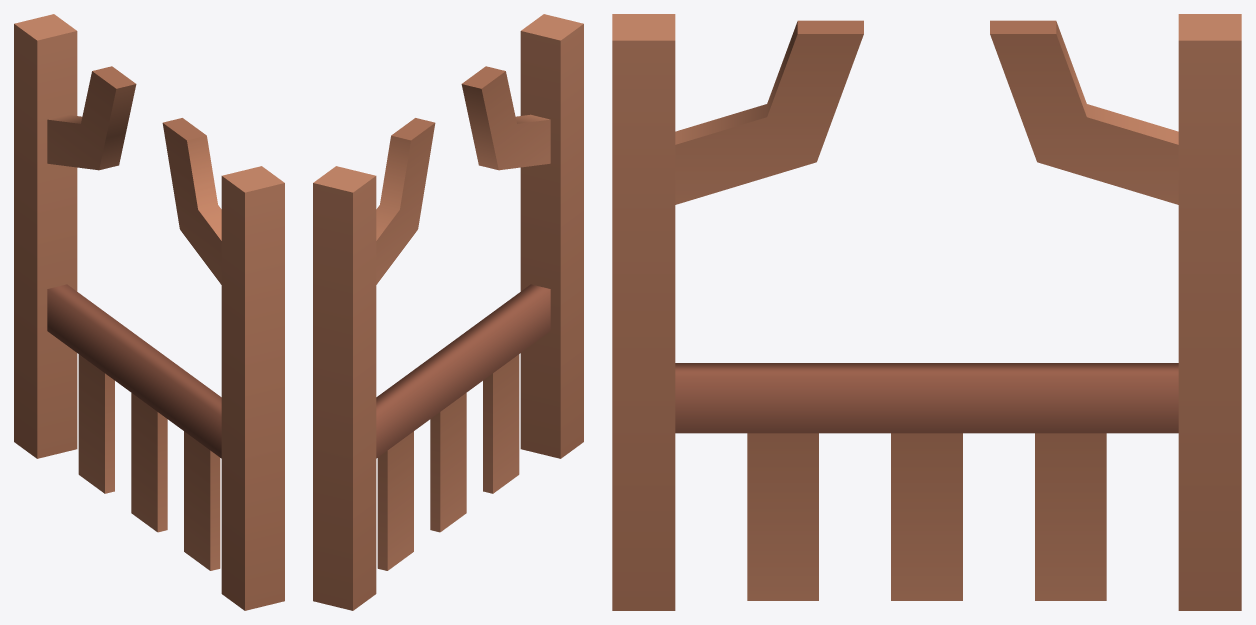
The model's file is fence-kn-balcony-wall-fence.glb.
3 renders of one model, left to right at view 1: azimuth 30°, elevation 25°; view 2: azimuth 150°, elevation 25°; view 3: azimuth 270°, elevation 25°, orthographic. The views are drawn at different scales.
Parts seen in each view (by area): view 1: balcony-wall-fence; view 2: balcony-wall-fence; view 3: balcony-wall-fence.
Part boxes in pixels (x1,y1,x2,y2): balcony-wall-fence: (14,14,284,610); balcony-wall-fence: (313,14,583,610); balcony-wall-fence: (612,14,1241,610).
Bounding box in the file's own units: 0.3 × 3 × 3.
Materials: 1 (1 with a texture image).
